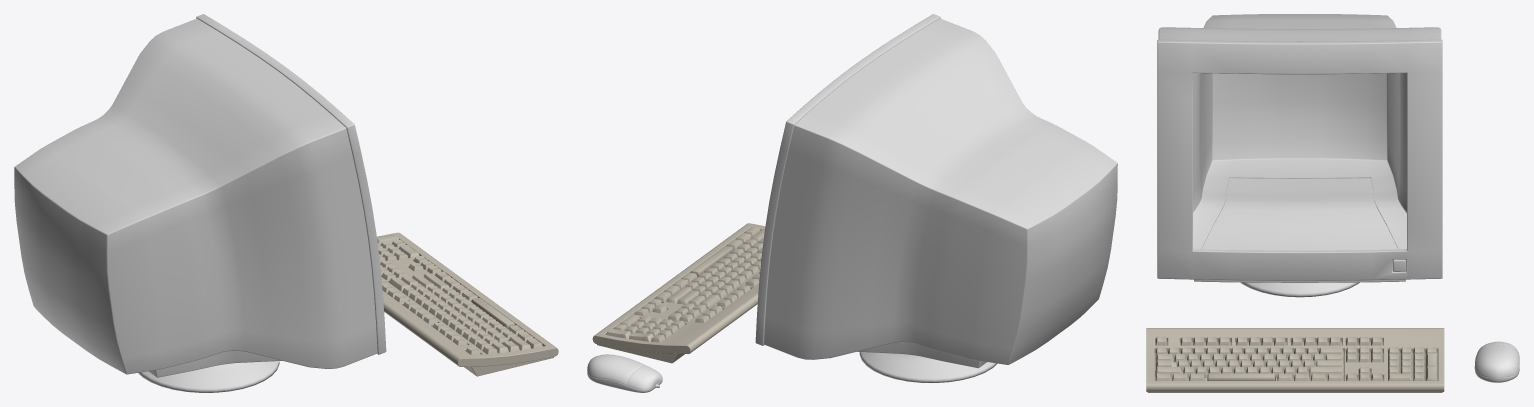
The model's file is key.fbx.
3 renders of one model, left to right at view 1: azimuth 30°, elevation 25°; view 2: azimuth 150°, elevation 25°; view 3: azimuth 270°, elevation 25°, orthographic. The views are drawn at different scales.
Visible parts, largest first — view 1: Keyboard; view 2: Keyboard; view 3: Keyboard.
Boxes of the visible parts, x1,y1,x2,y2 form: Keyboard: (14, 14, 558, 392); Keyboard: (587, 14, 1117, 392); Keyboard: (1146, 14, 1519, 392).
Size of the model in its own units: 377 by 236 by 304.
